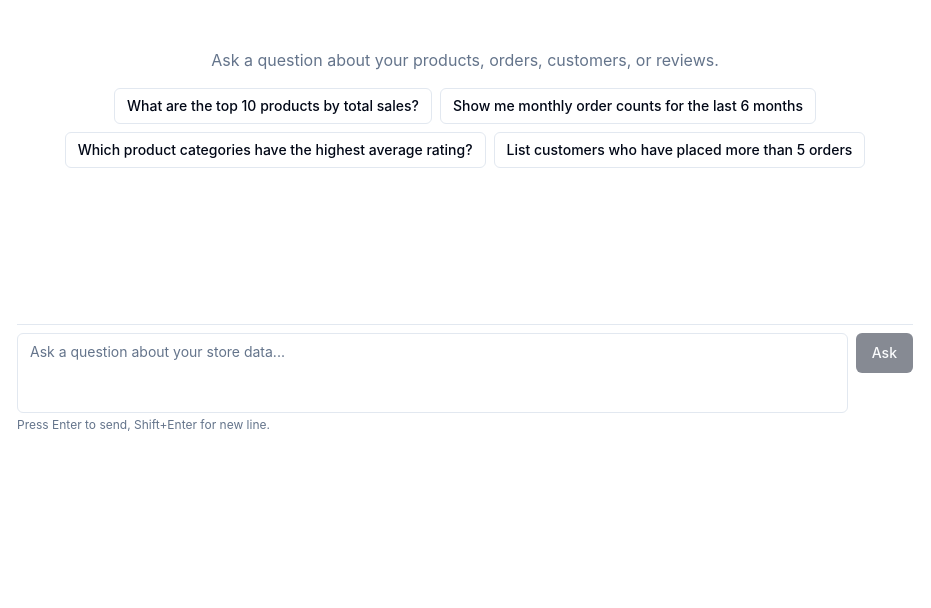
Test case: AiAnalyticsChat › submits on Enter key
Type "Enter submit test" into the text box with placeholder "Ask a question about your store data..." at (432, 373), box [17,333,848,413]
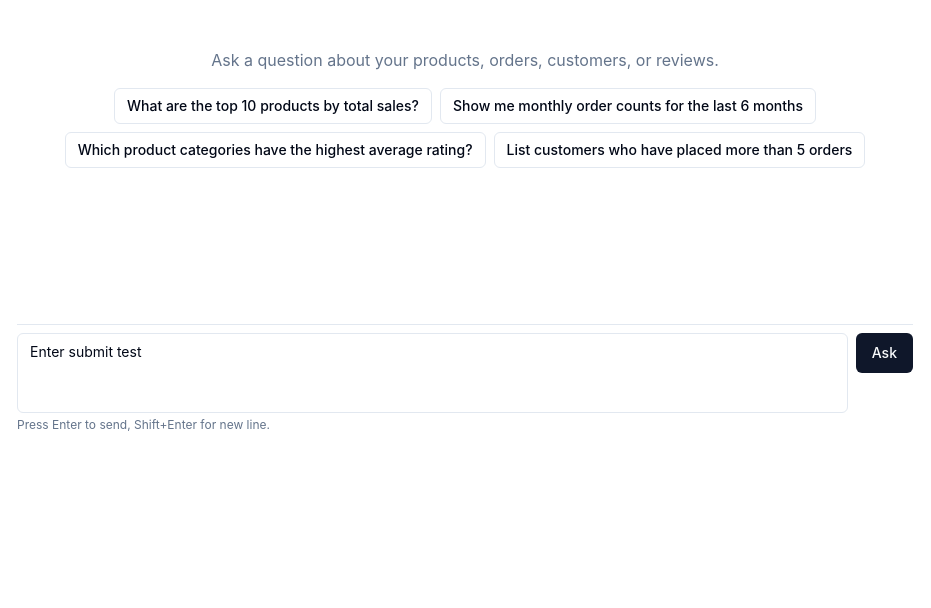
Press Enter in the text box with placeholder "Ask a question about your store data...", box [17,333,848,413]
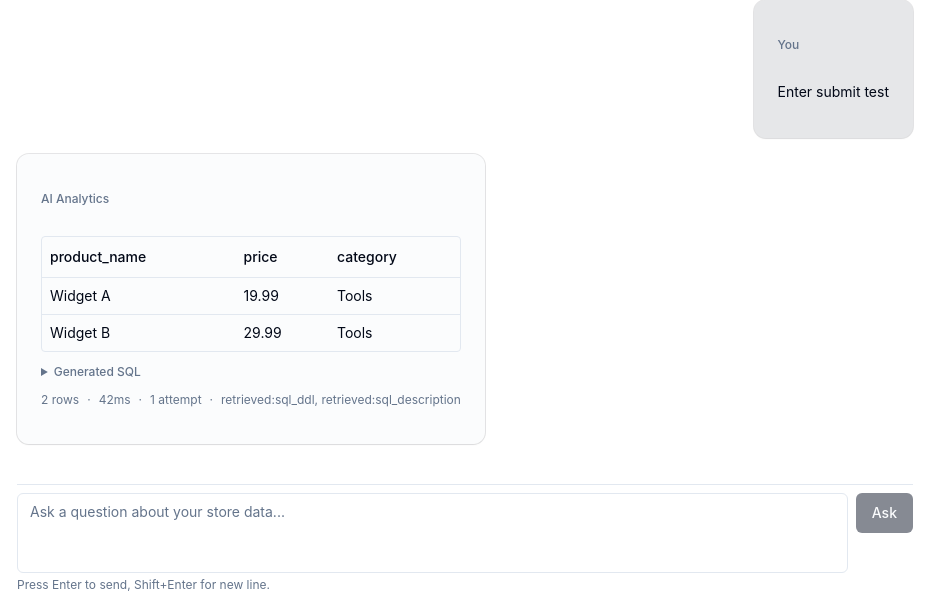
Expected: the text "Enter submit test" is shown, [778,82,889,102]
